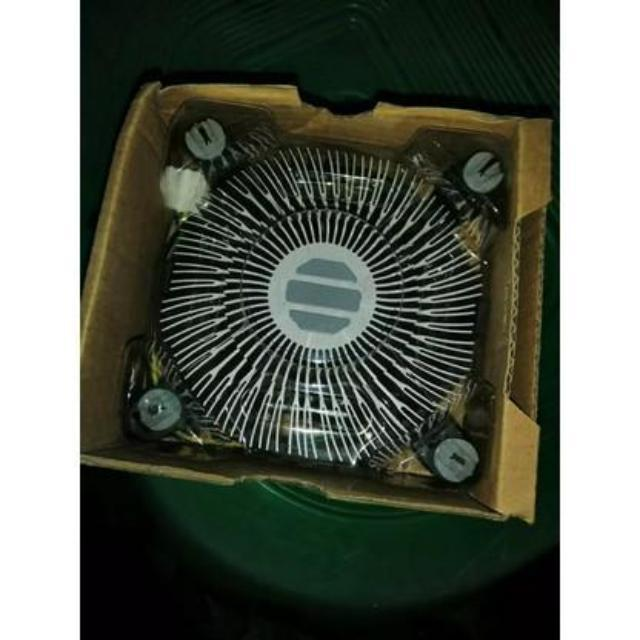CPU_Fan: (128, 93, 512, 496)
